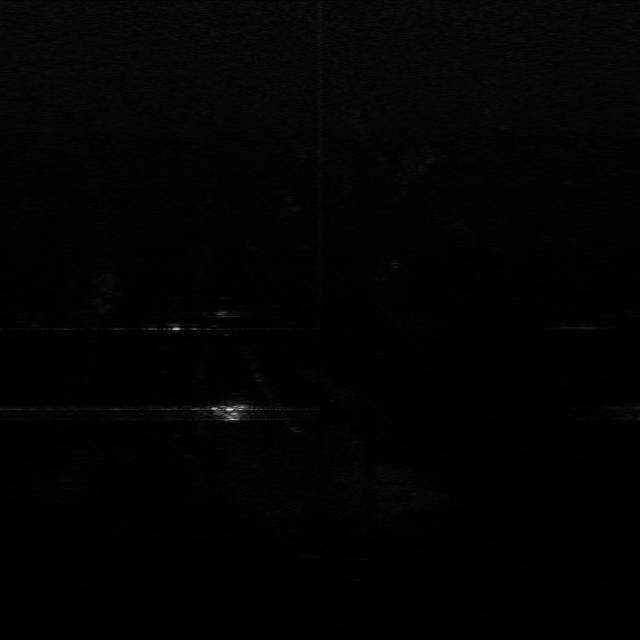rov: (208, 399, 251, 424)
